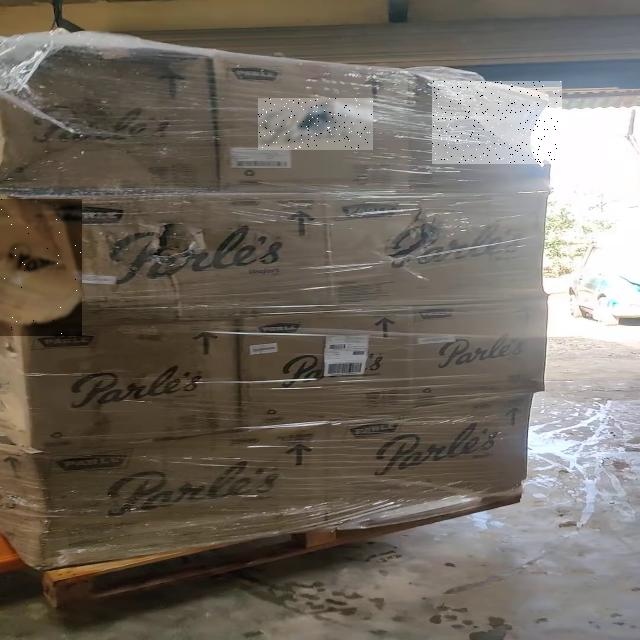squeeze: (0, 200, 82, 334), (432, 81, 561, 163)
tear: (258, 99, 373, 149)
